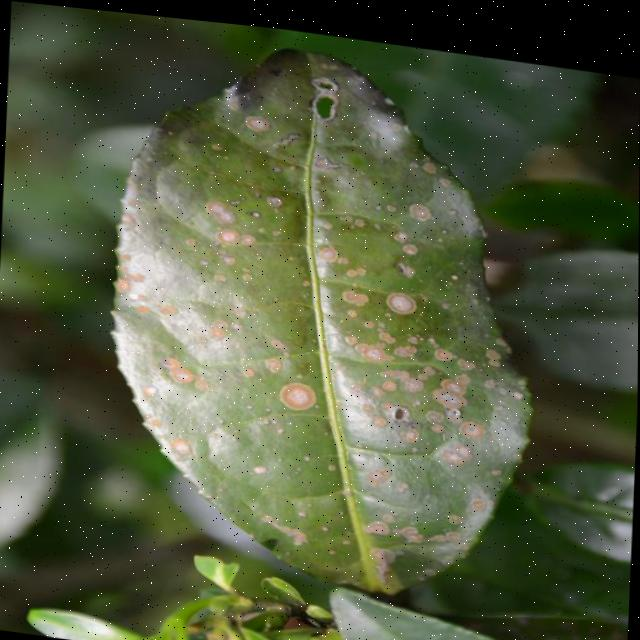Tea algae leaf spot: (115, 71, 484, 556)
